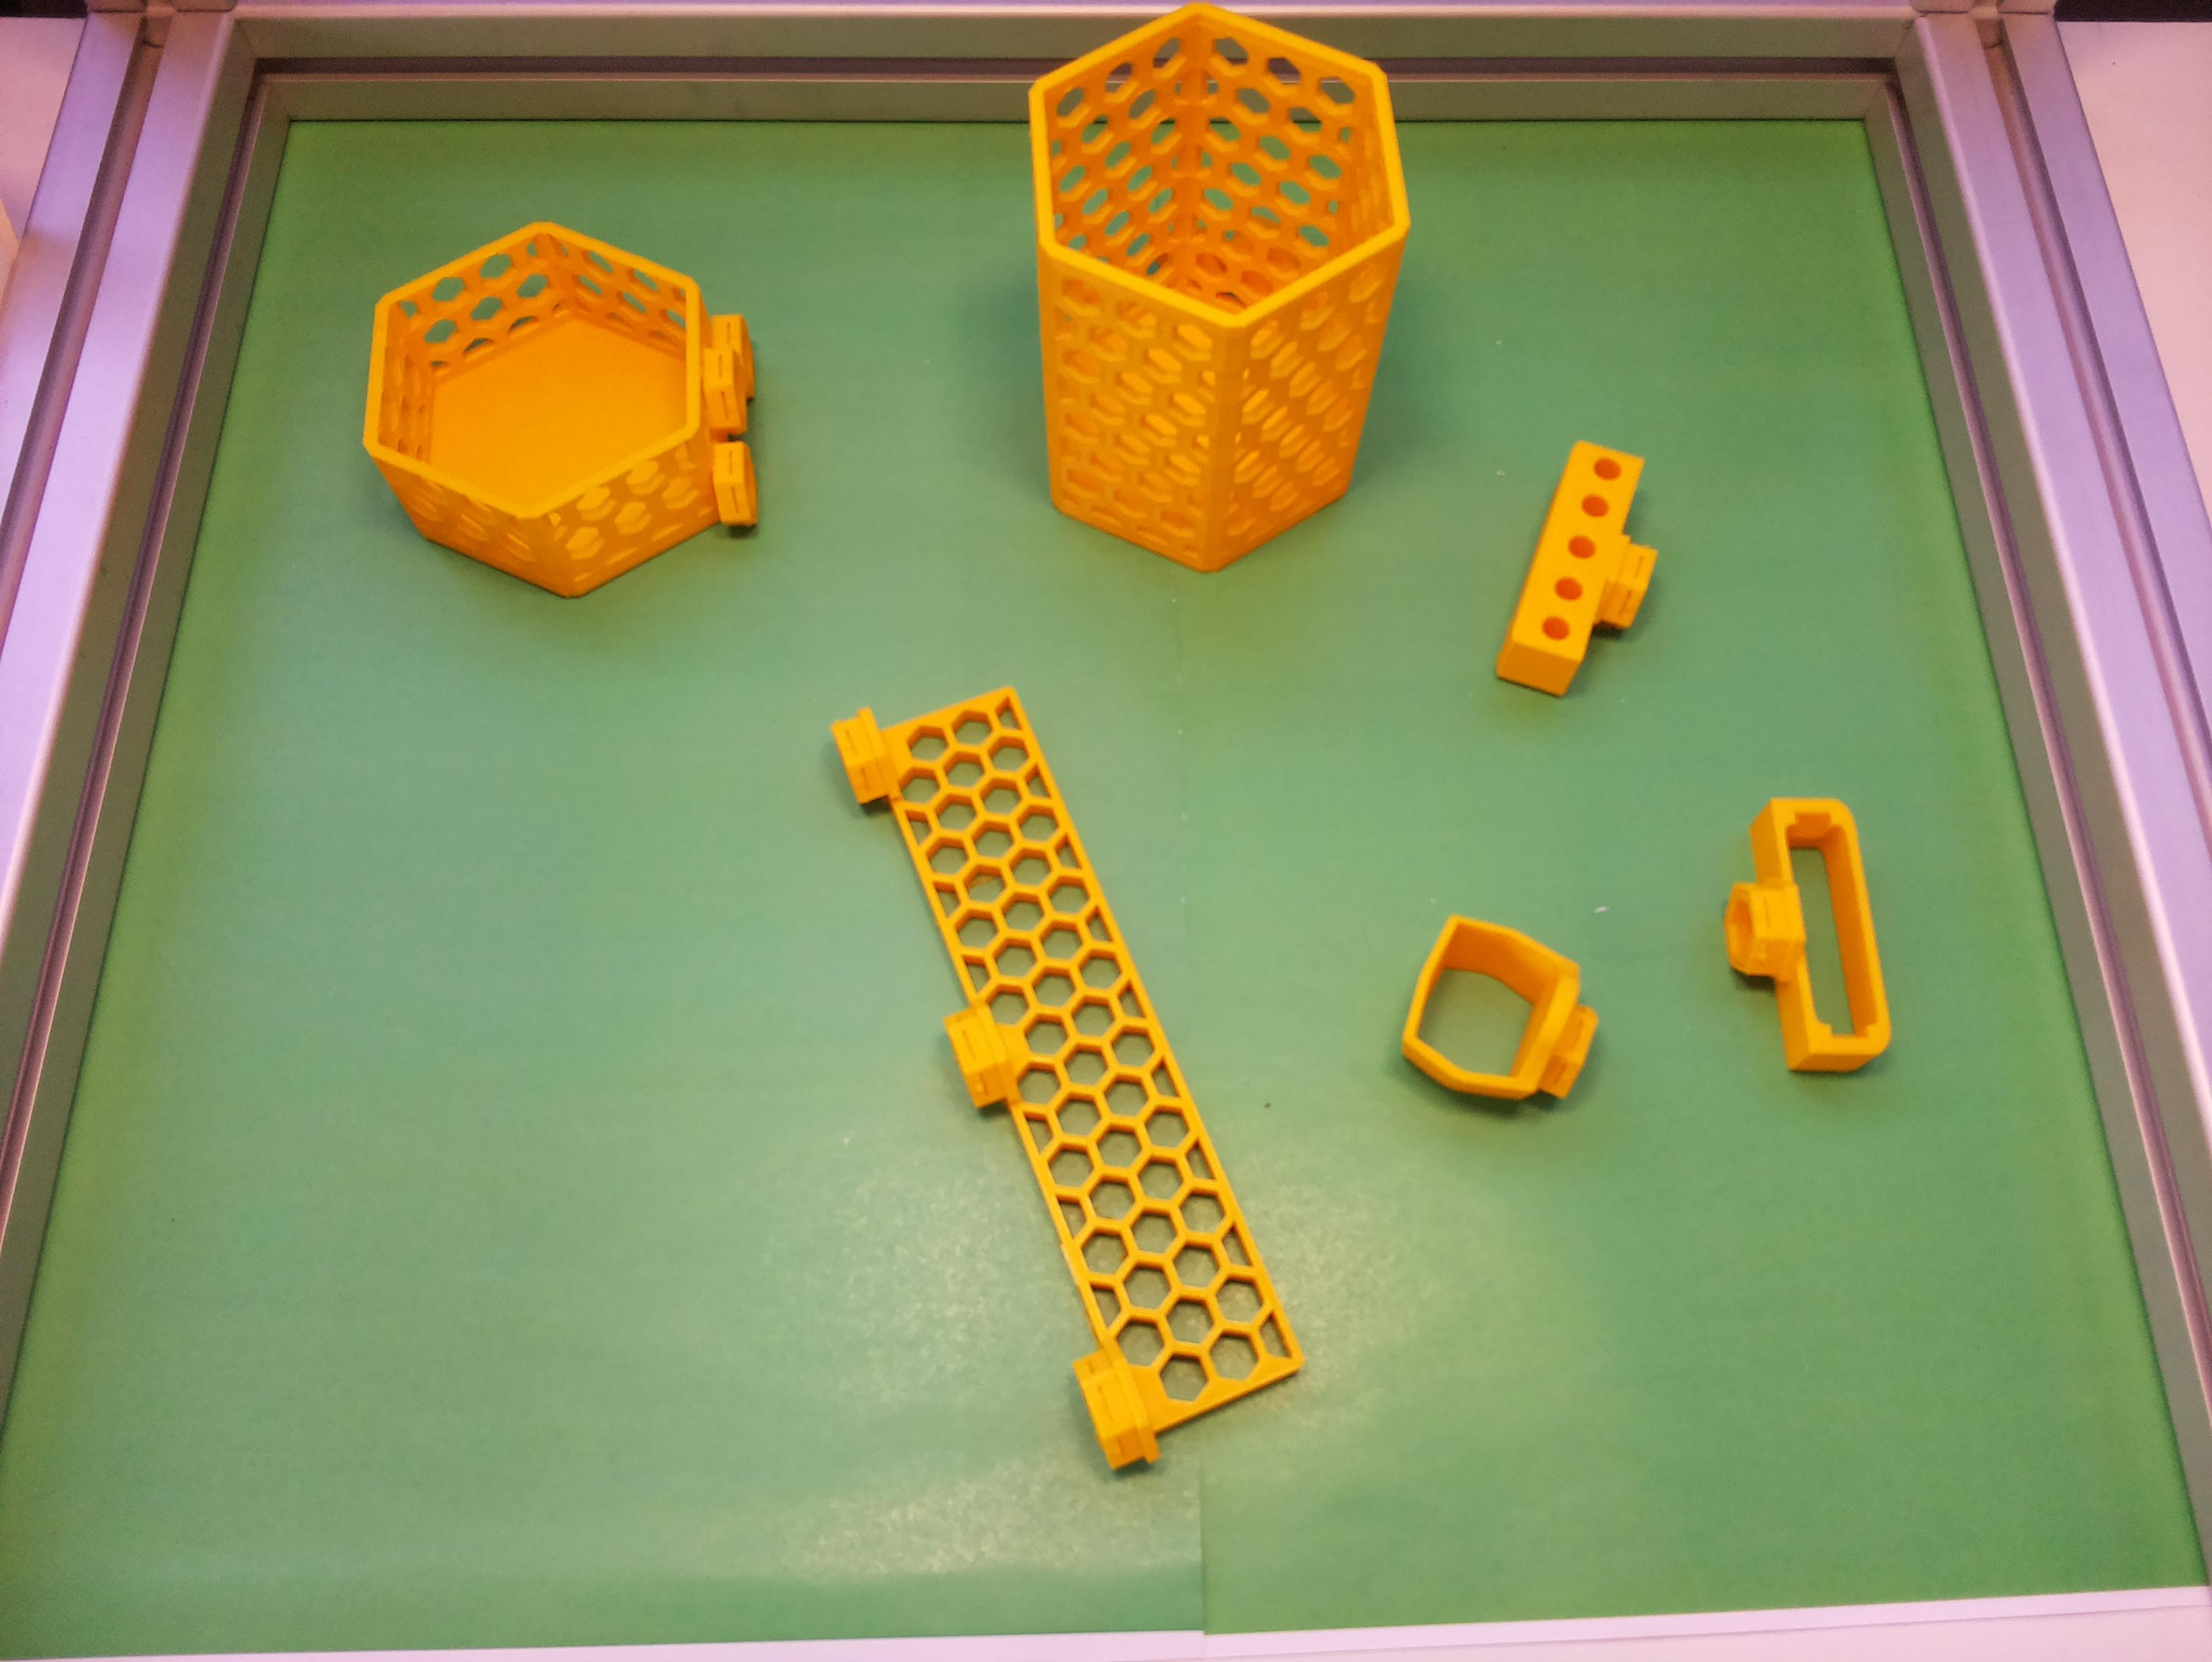bit_holder: (1493, 435, 1685, 712)
bottle_holder: (313, 164, 815, 648)
cutter_holder: (1702, 787, 1898, 1088)
scissor_holder: (1388, 906, 1617, 1126)
tool_holder: (794, 649, 1318, 1479)
